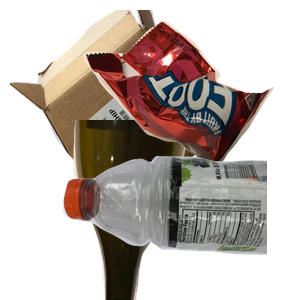cardboard: (10, 10, 227, 190)
glass: (71, 120, 254, 300)
plastic: (60, 152, 300, 300)
trash: (81, 18, 300, 182)
